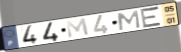4: (21, 23, 40, 46), (42, 21, 61, 43), (93, 13, 111, 35)
E: (140, 5, 164, 30)
M: (65, 17, 91, 40), (116, 10, 142, 32)
